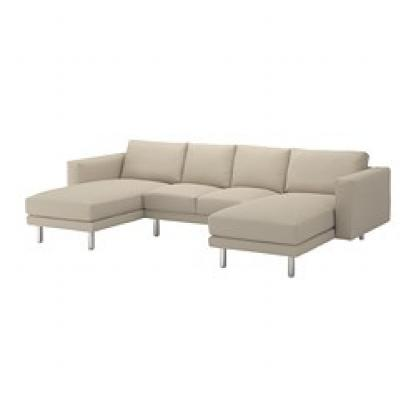Sofa: (17, 115, 394, 284)
